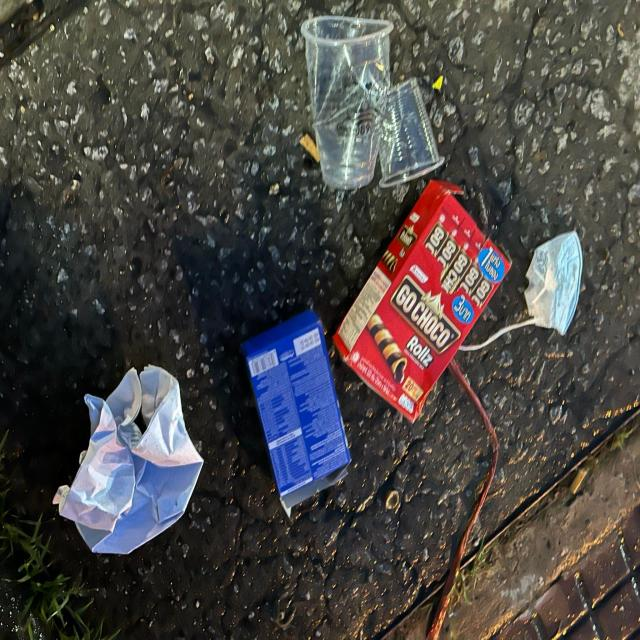cardboard box: (333, 180, 514, 426), (243, 310, 352, 518)
mask: (524, 230, 584, 336)
paper: (53, 364, 206, 556)
plastic glass: (299, 17, 396, 190), (379, 78, 445, 188)
